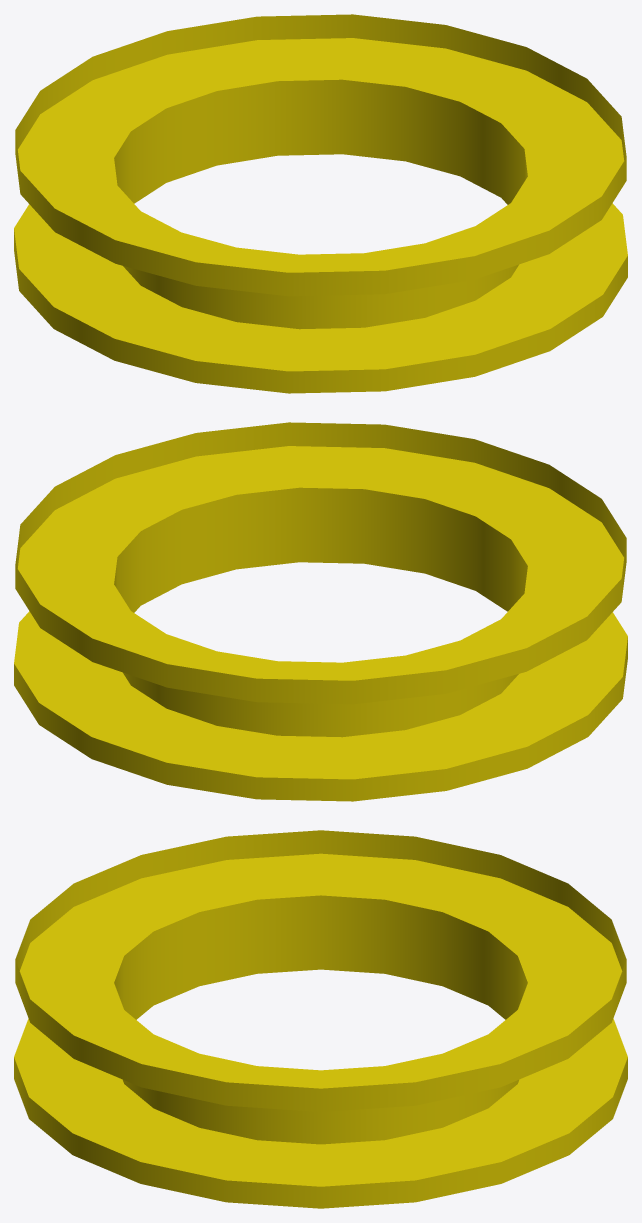
File: Base Feet.fbx
3 renders of one model, top to bottom at view 1: azimuth 30°, elevation 25°; view 2: azimuth 150°, elevation 25°; view 3: azimuth 270°, elevation 25°, orthographic.
Parts seen in each view (by area): view 1: Base_Feet; view 2: Base_Feet; view 3: Base_Feet.
Boxes of the visible parts, <box> form: Base_Feet: <box>14,14,627,393</box>; Base_Feet: <box>14,422,627,801</box>; Base_Feet: <box>14,830,627,1208</box>.
Bounding box in the file's own units: 19.14 × 4.11 × 19.14.
